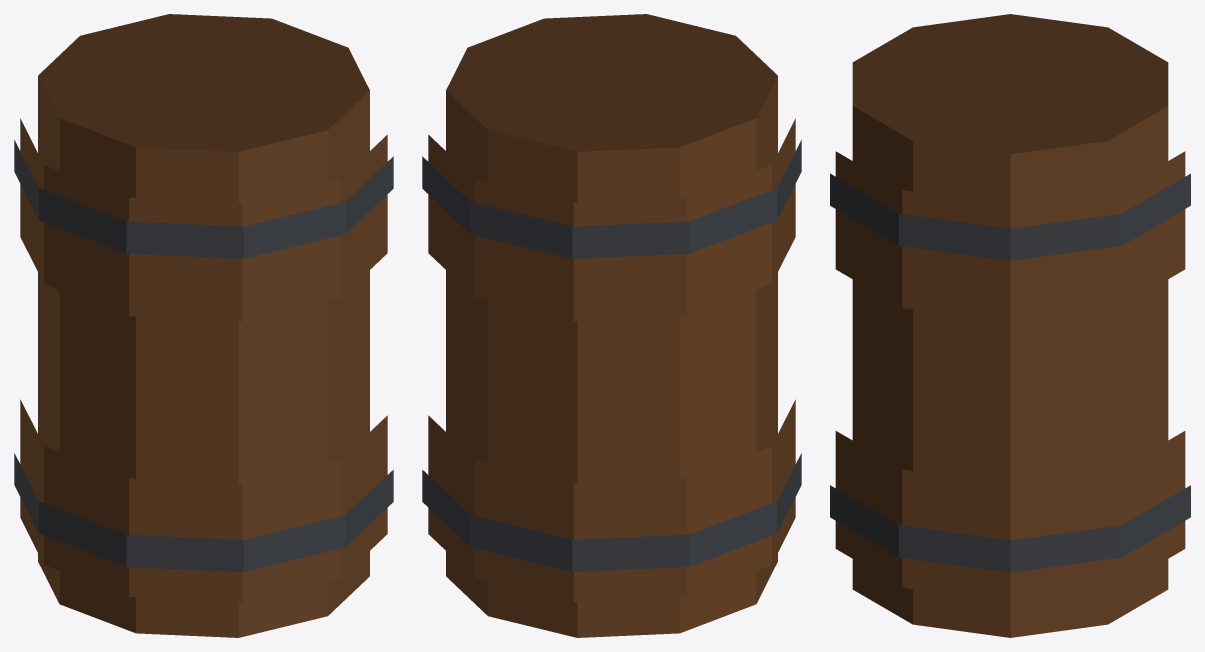
The model's file is camp_barrel.glb.
The picture shows the model from 3 angles, left to right: view 1: azimuth 30°, elevation 25°; view 2: azimuth 150°, elevation 25°; view 3: azimuth 270°, elevation 25°; orthographic projection.
Parts seen in each view (by area): view 1: camp_barrel; view 2: camp_barrel; view 3: camp_barrel.
Part boxes in pixels (box(x1,y1,x2,y2)): camp_barrel: box(14, 14, 393, 637); camp_barrel: box(422, 14, 801, 637); camp_barrel: box(830, 14, 1190, 637).
Bounding box in the file's own units: 0.64 × 0.9 × 0.6087.
1 material, 1 textured.
